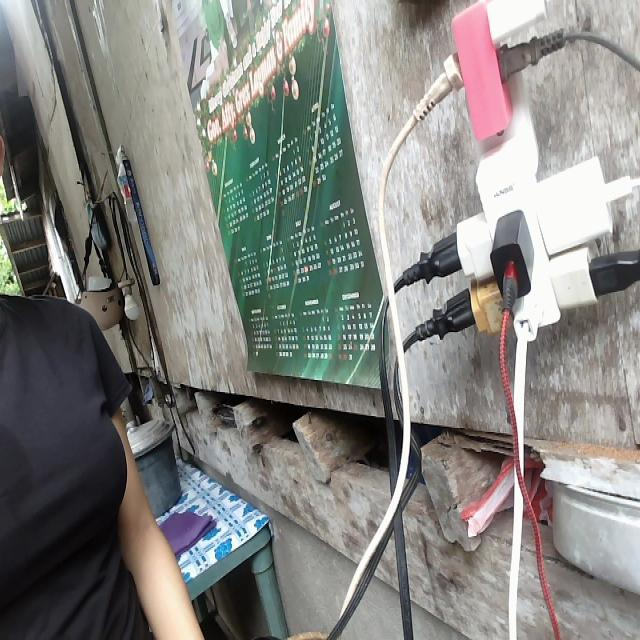-: (412, 0, 615, 339)
